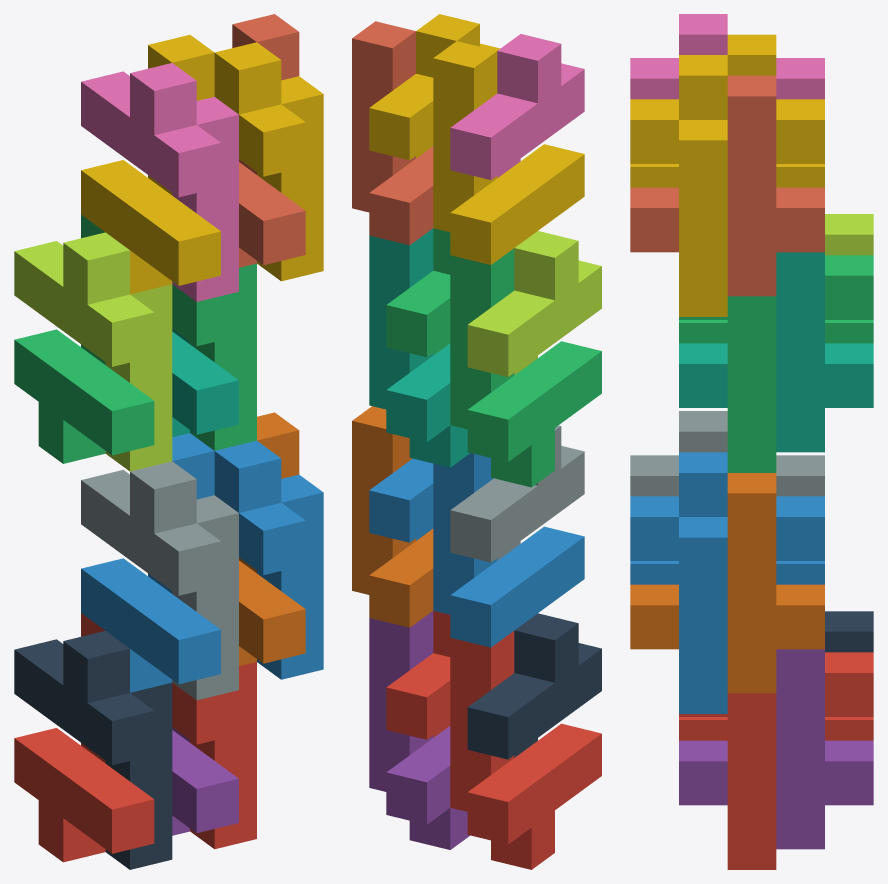
File: tiling.obj
3 renders of one model, left to right at view 1: azimuth 30°, elevation 25°; view 2: azimuth 150°, elevation 25°; view 3: azimuth 270°, elevation 25°, orthographic. The views are drawn at different scales.
Visible parts, largest first — view 1: copy_2_domain_4, copy_2_domain_2, copy_2_domain_1, copy_2_domain_3, copy_2_domain_8, copy_2_domain_6, copy_1_domain_4, copy_1_domain_2, copy_1_domain_1, copy_1_domain_3, copy_2_domain_7, copy_2_domain_5 (+4 smaller); view 2: copy_1_domain_3, copy_1_domain_1, copy_1_domain_4, copy_1_domain_2, copy_1_domain_7, copy_1_domain_5, copy_2_domain_1, copy_2_domain_3, copy_2_domain_4, copy_1_domain_8, copy_1_domain_6, copy_2_domain_2 (+4 smaller); view 3: copy_2_domain_6, copy_2_domain_8, copy_1_domain_8, copy_1_domain_6, copy_1_domain_5, copy_1_domain_7, copy_2_domain_5, copy_2_domain_7, copy_2_domain_2, copy_2_domain_4, copy_1_domain_4, copy_1_domain_1 (+4 smaller).
Boxes of the visible parts, x1=… form: copy_2_domain_4: x1=81, y1=63, x2=238, y2=301; copy_2_domain_2: x1=81, y1=461, x2=238, y2=700; copy_2_domain_1: x1=14, y1=631, x2=172, y2=869; copy_2_domain_3: x1=14, y1=232, x2=172, y2=471; copy_2_domain_8: x1=214, y1=42, x2=323, y2=281; copy_2_domain_6: x1=214, y1=440, x2=323, y2=679; copy_1_domain_4: x1=81, y1=34, x2=220, y2=294; copy_1_domain_2: x1=81, y1=433, x2=220, y2=692; copy_1_domain_1: x1=14, y1=613, x2=154, y2=862; copy_1_domain_3: x1=14, y1=214, x2=154, y2=463; copy_2_domain_7: x1=172, y1=263, x2=256, y2=450; copy_2_domain_5: x1=172, y1=662, x2=256, y2=849; copy_1_domain_3: x1=450, y1=248, x2=601, y2=487; copy_1_domain_1: x1=450, y1=631, x2=601, y2=869; copy_1_domain_4: x1=433, y1=41, x2=584, y2=264; copy_1_domain_2: x1=433, y1=453, x2=584, y2=647; copy_1_domain_7: x1=369, y1=228, x2=469, y2=467; copy_1_domain_5: x1=369, y1=611, x2=469, y2=849; copy_2_domain_1: x1=467, y1=613, x2=601, y2=759; copy_2_domain_3: x1=467, y1=231, x2=601, y2=376; copy_2_domain_4: x1=450, y1=34, x2=584, y2=179; copy_1_domain_8: x1=352, y1=21, x2=433, y2=245; copy_1_domain_6: x1=352, y1=406, x2=433, y2=627; copy_2_domain_2: x1=450, y1=425, x2=584, y2=562; copy_2_domain_6: x1=630, y1=452, x2=824, y2=713; copy_2_domain_8: x1=630, y1=55, x2=824, y2=316; copy_1_domain_8: x1=630, y1=75, x2=824, y2=296; copy_1_domain_6: x1=630, y1=473, x2=824, y2=693; copy_1_domain_5: x1=679, y1=649, x2=873, y2=849; copy_1_domain_7: x1=679, y1=252, x2=873, y2=452; copy_2_domain_5: x1=679, y1=652, x2=873, y2=869; copy_2_domain_7: x1=679, y1=255, x2=873, y2=472; copy_2_domain_2: x1=630, y1=411, x2=824, y2=496; copy_2_domain_4: x1=630, y1=14, x2=824, y2=99; copy_1_domain_4: x1=630, y1=34, x2=824, y2=187; copy_1_domain_1: x1=679, y1=717, x2=873, y2=740.
Bounding box in the file's own units: 5 × 18 × 5.
